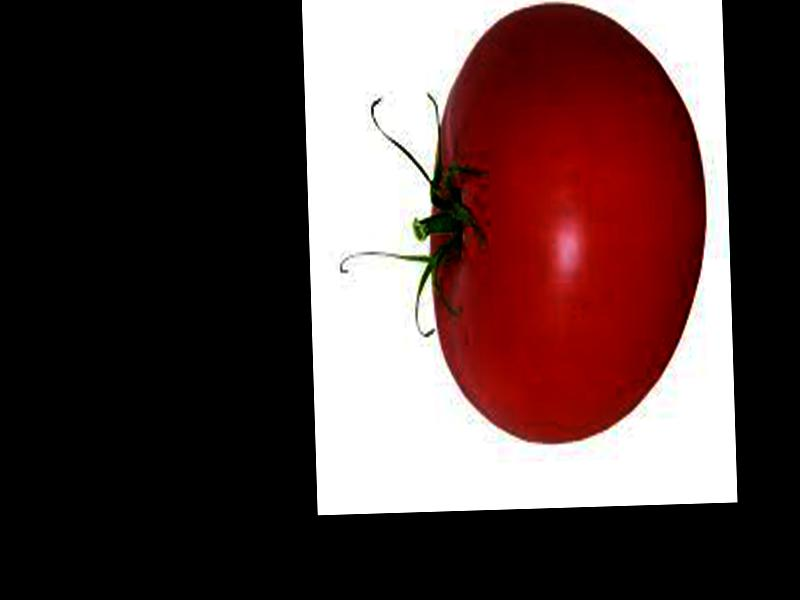Tomato: (421, 0, 711, 450)
